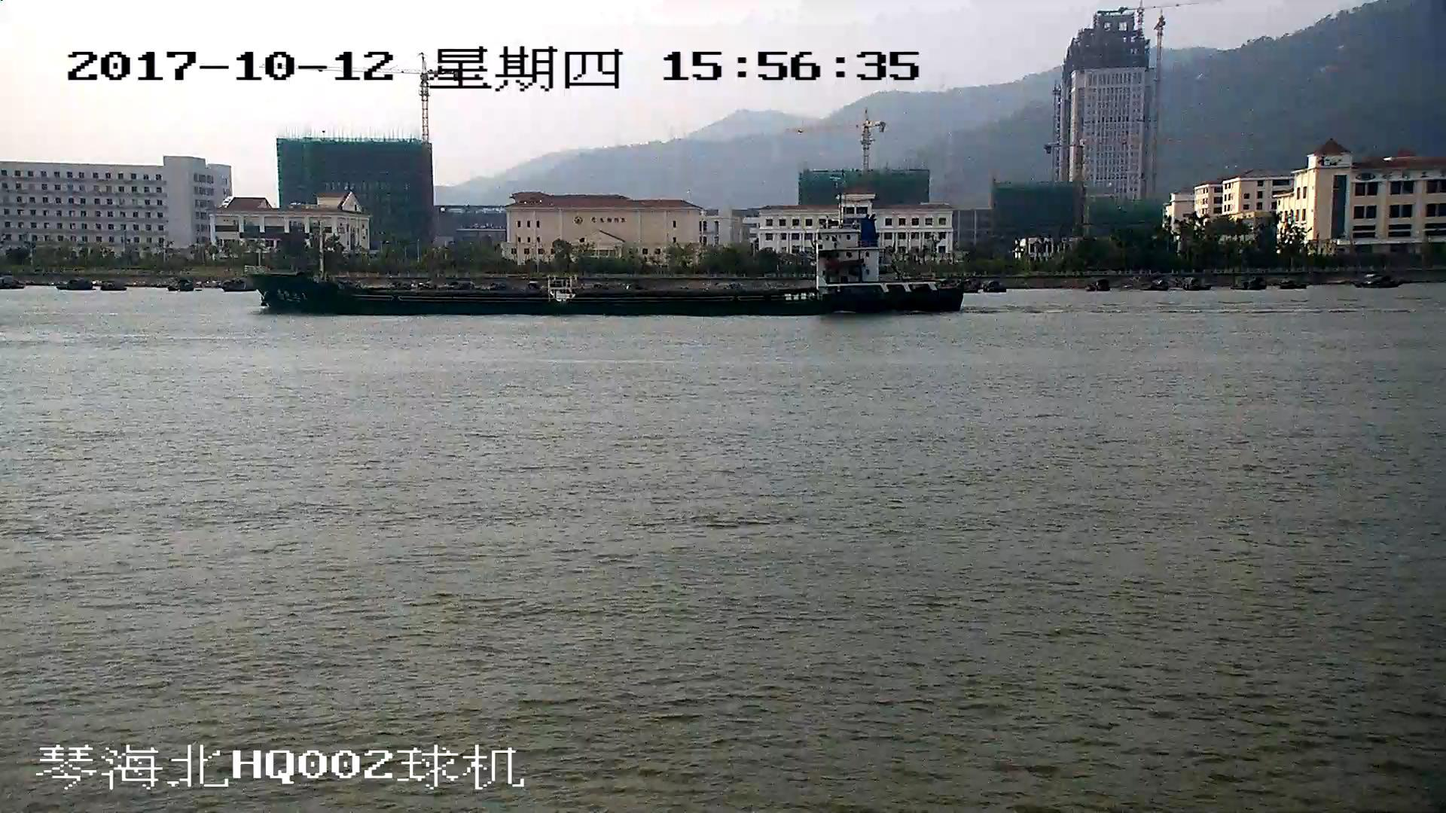general cargo ship: (243, 215, 964, 314)
